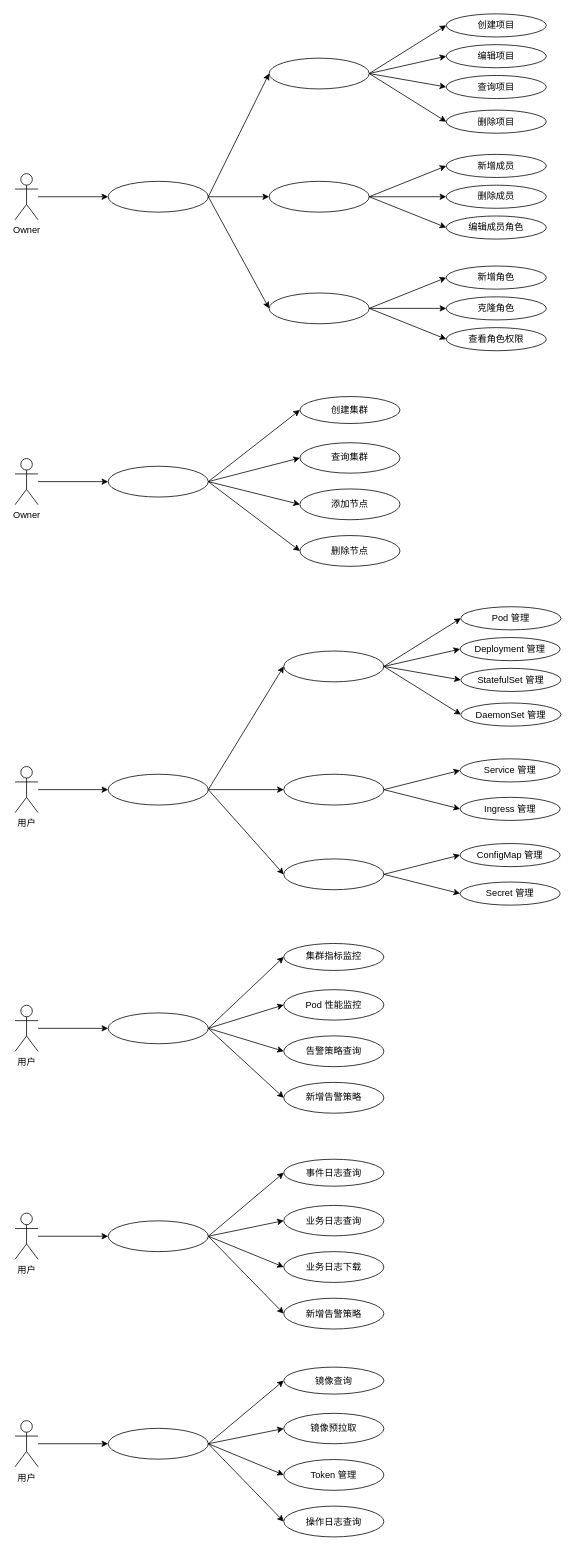
Some shapes in this 574 by 1550 pixel diagram are drawn without their labels. The centre of each missing label's shape, as x and y in pixels:
工作负载管理: [333,666]
成员管理: [318,196]
日志管理: [157,1236]
监控告警管理: [157,1028]
系统信息管理: [157,196]
网络管理: [333,789]
角色管理: [318,308]
资源对象管理: [157,789]
配置管理: [333,874]
镜像管理: [157,1443]
集群和节点管理: [157,481]
项目管理: [318,73]
